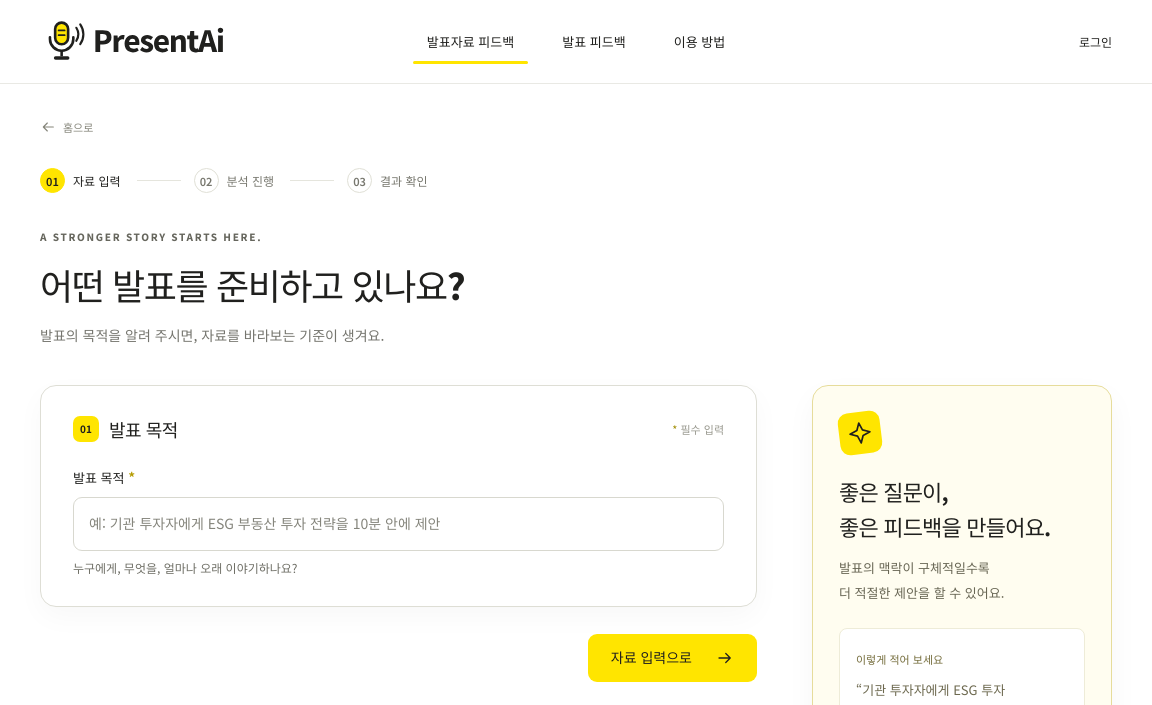
Test: returning from the analysis screen of the same flow keeps the input
The width and height of the screenshot is (1152, 705).
Step 1. Type "교육" into the field labelled "발표 목적 *" → (398, 524), box [73,497,724,551]
Then press Enter
(page scrolled)
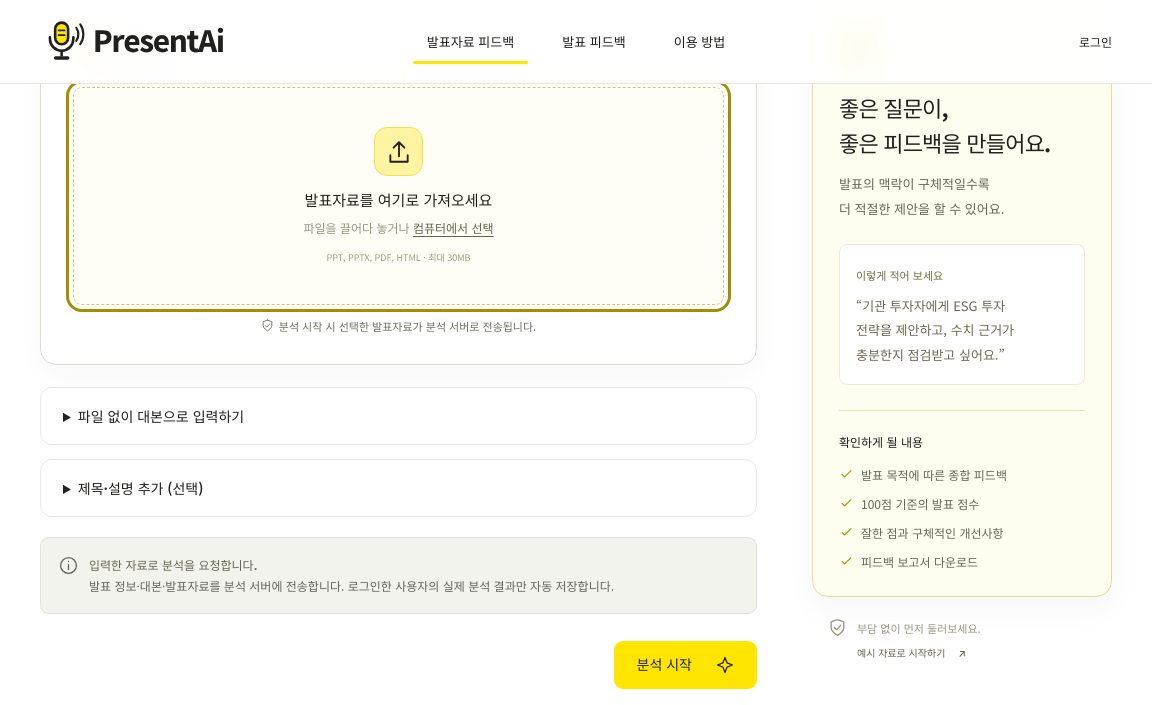
Step 2. Click the heading "파일 없이 대본으로 입력하기" → (161, 416), box [78,406,244,426]
(page scrolled)
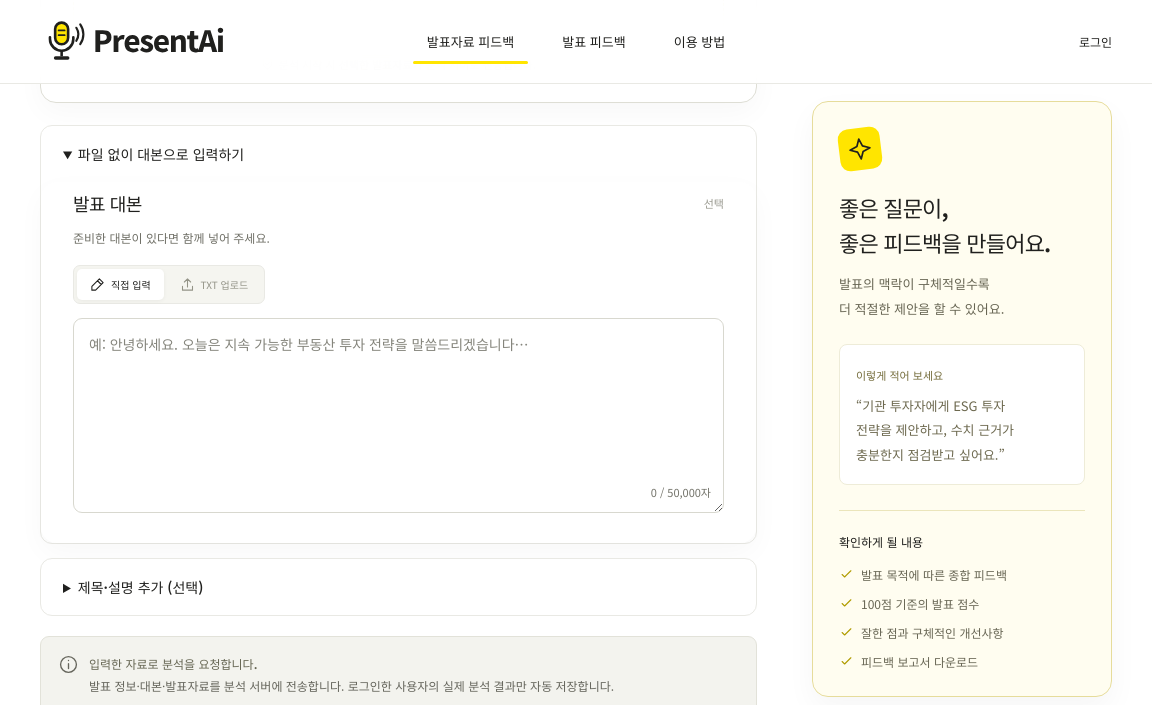
Step 3. Type "합성 대본입니다." into the text box named "발표 대본" → (398, 416), box [73,318,724,513]
(page scrolled)
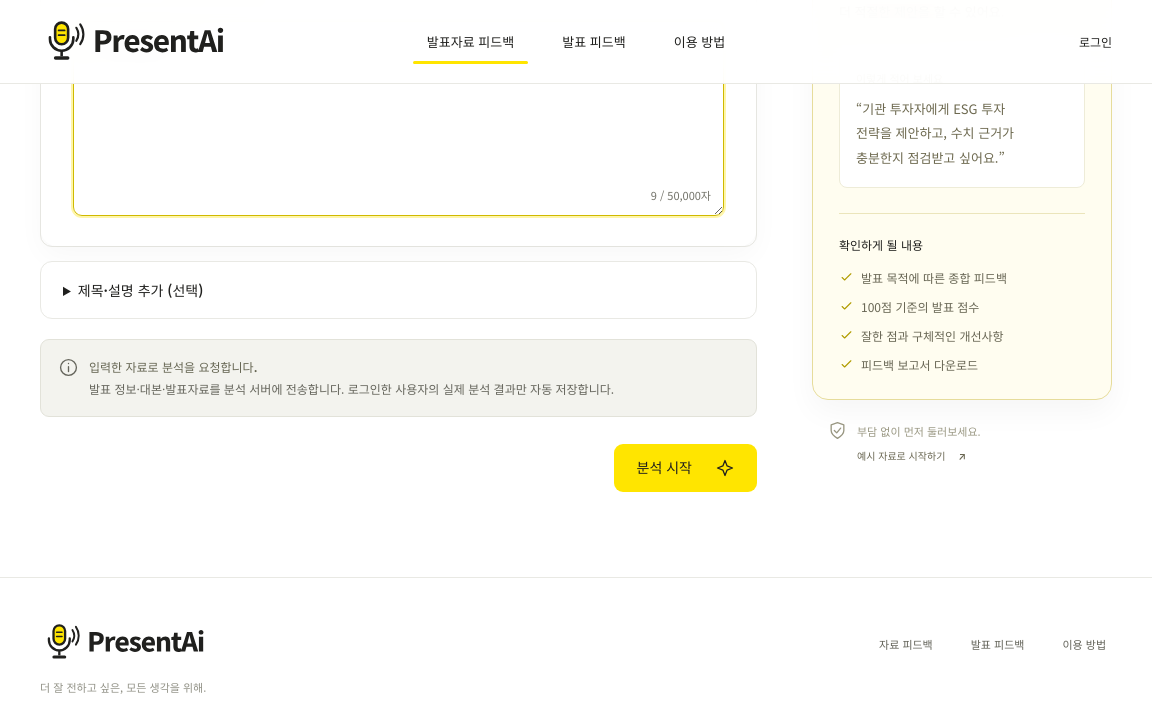
Step 4. Click the button "분석 시작" → (685, 468), box [614,444,757,492]
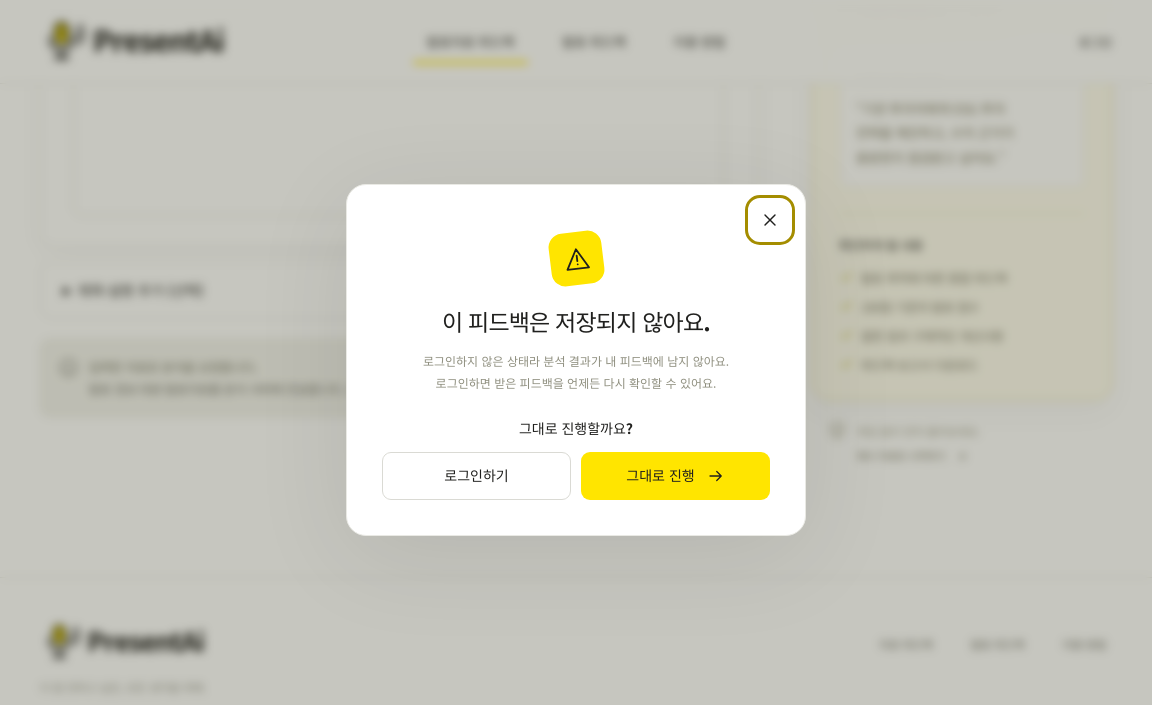
Step 5. Click the button "그대로 진행" → (676, 476), box [581,452,770,500]
(page scrolled)
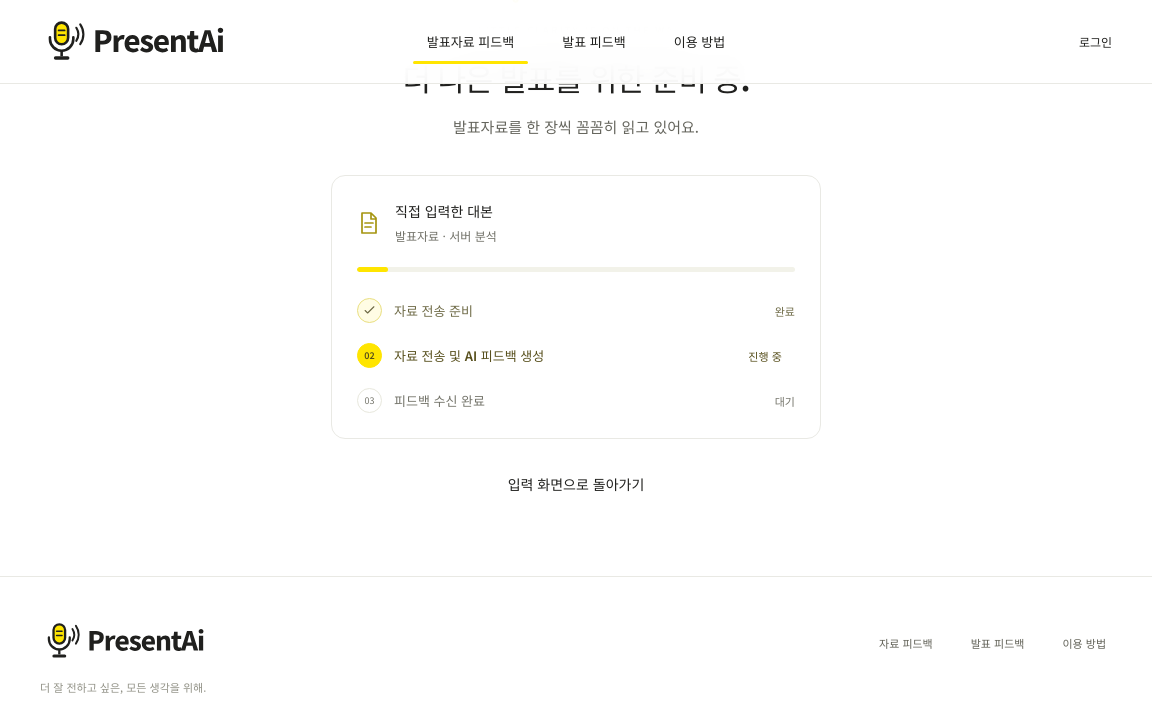
Step 6. Click the button "입력 화면으로 돌아가기" → (576, 484), box [508,467,644,501]
(page scrolled)
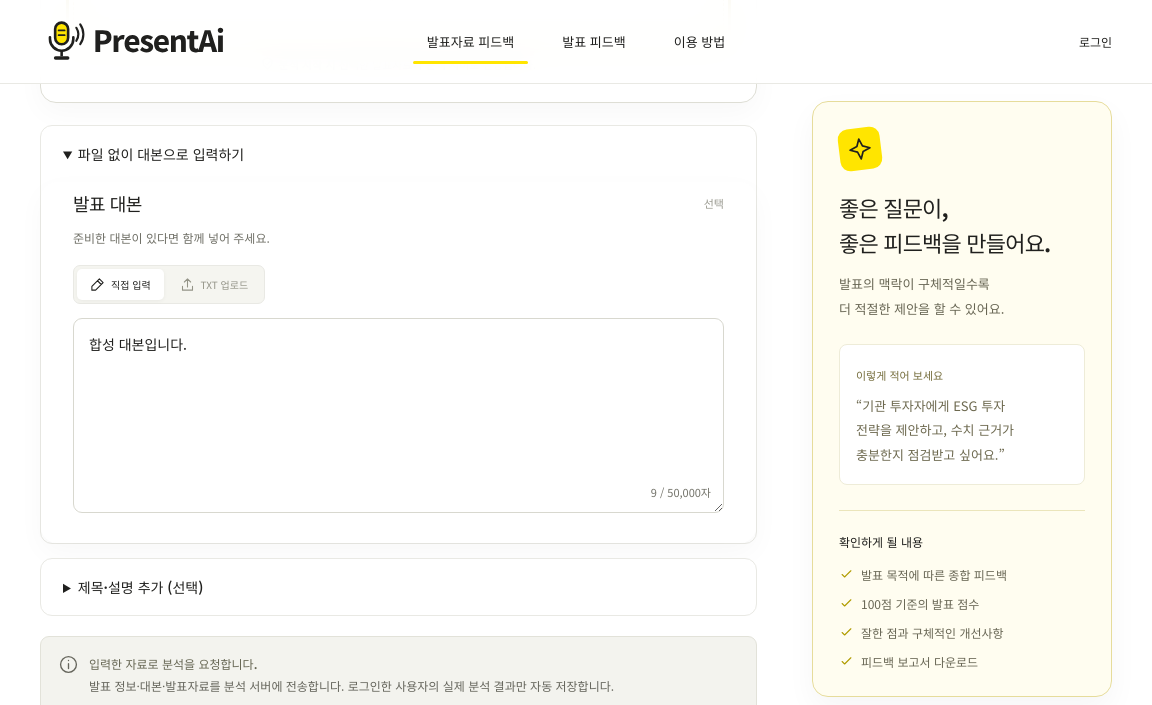
Now the text box named "발표 대본" holds "합성 대본입니다.", box [73,318,724,513]
